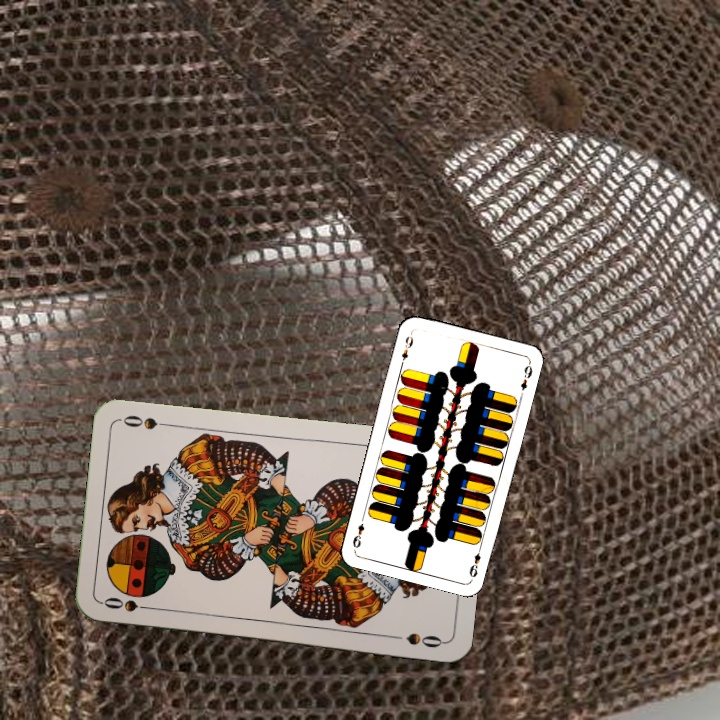E9: (465, 542, 485, 581), (397, 328, 416, 368)
SO: (99, 593, 158, 614)
